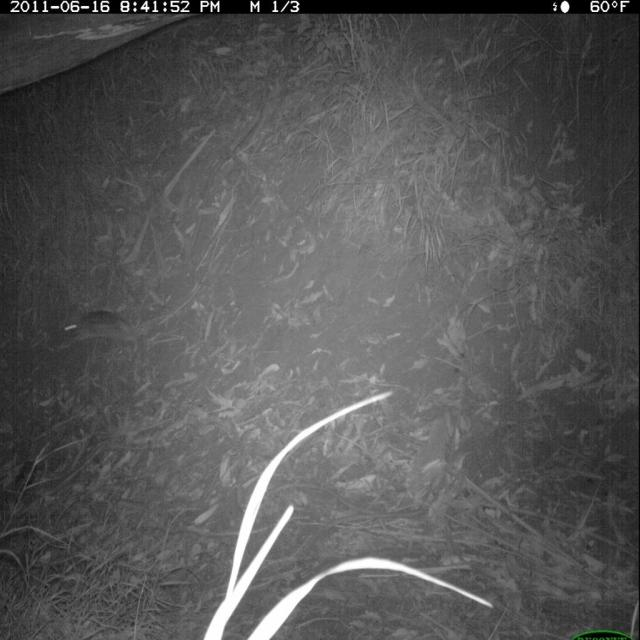rabbit: (56, 297, 145, 365)
